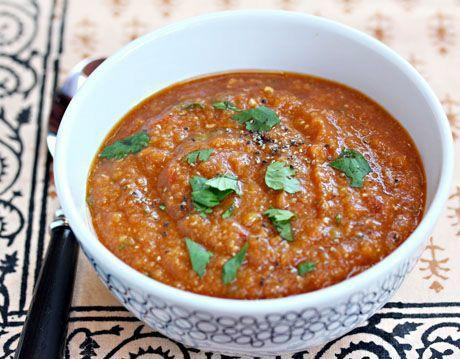RajmaCurry: (89, 68, 419, 302)
